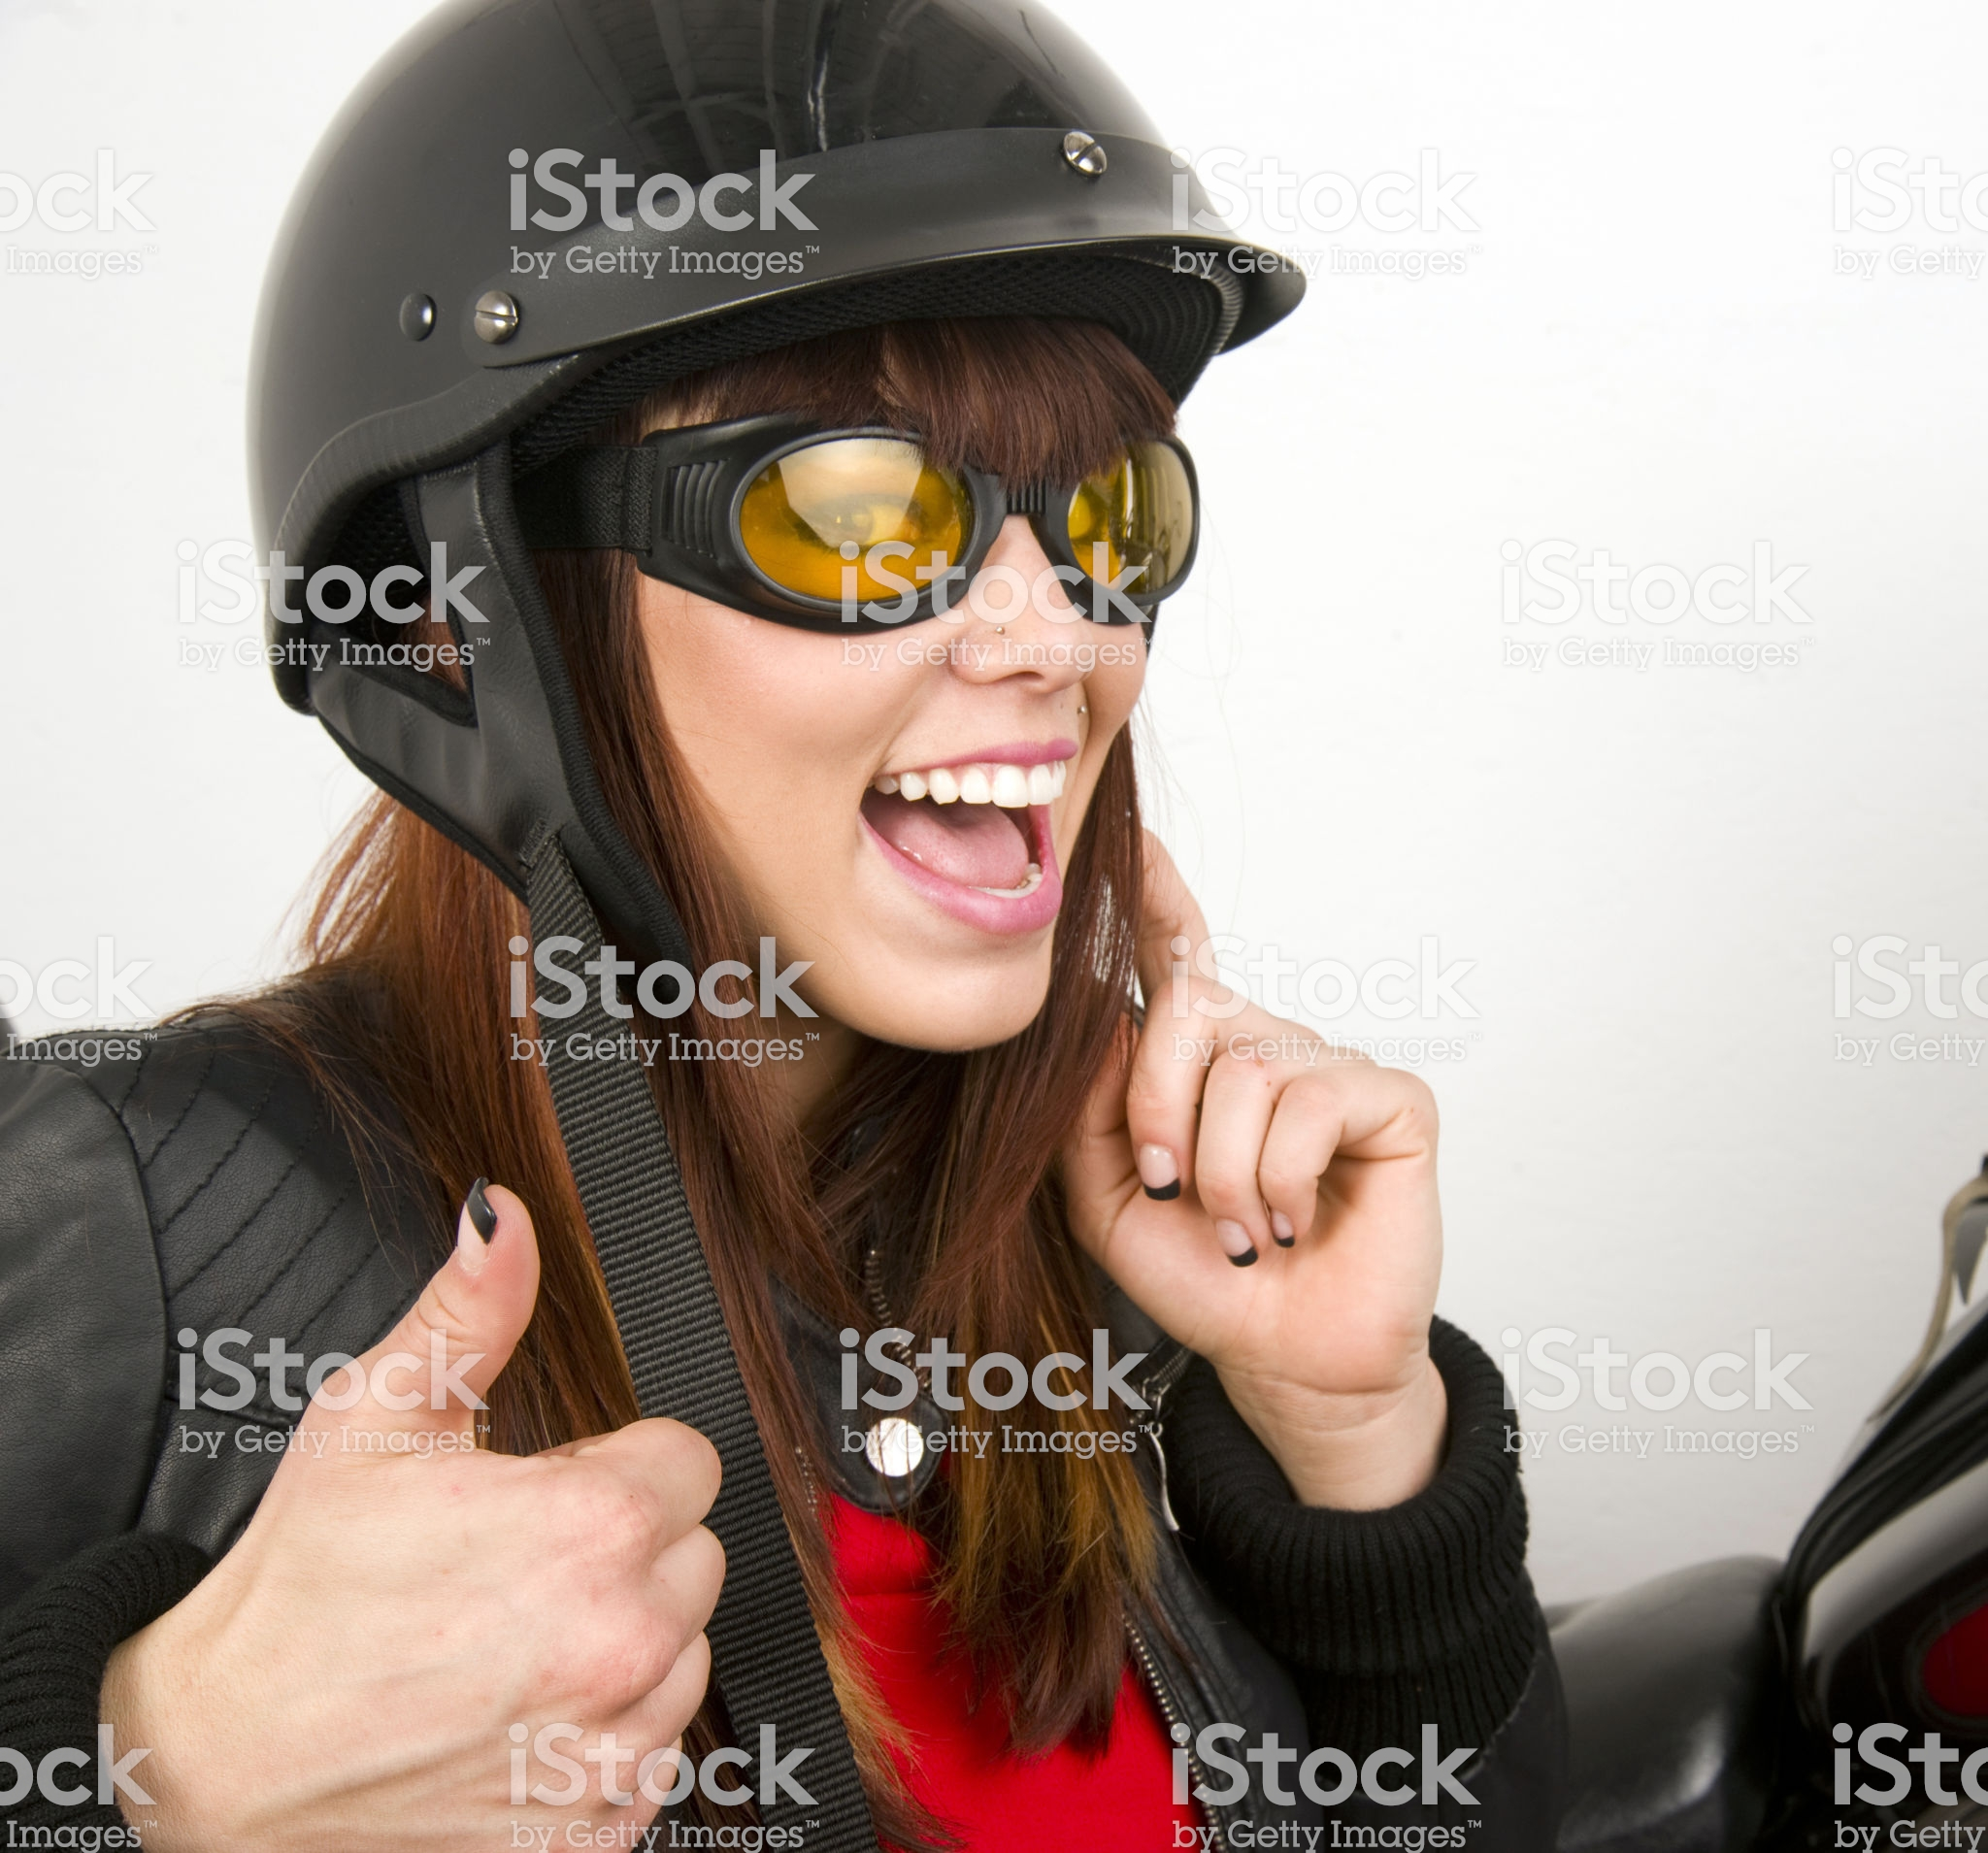helmet: (176, 19, 1267, 510)
